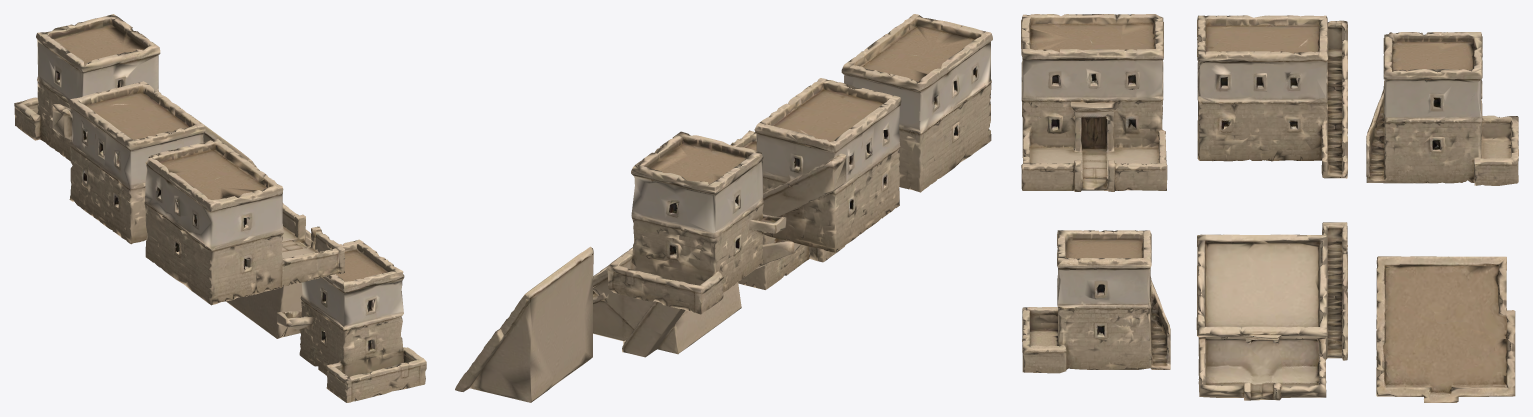
Rendered from house_wealthy_game.glb.
The picture shows the model from 3 angles, left to right: view 1: azimuth 30°, elevation 25°; view 2: azimuth 150°, elevation 25°; view 3: azimuth 270°, elevation 25°; orthographic projection. The views are drawn at different scales.
Parts seen in each view (by area): view 1: tripo_node_e14adc17-71f7-4f82-a629-1926d1048478; view 2: tripo_node_e14adc17-71f7-4f82-a629-1926d1048478; view 3: tripo_node_e14adc17-71f7-4f82-a629-1926d1048478.
Part boxes in pixels (x1,y1,x2,y2): tripo_node_e14adc17-71f7-4f82-a629-1926d1048478: [14, 14, 426, 402]; tripo_node_e14adc17-71f7-4f82-a629-1926d1048478: [455, 14, 992, 402]; tripo_node_e14adc17-71f7-4f82-a629-1926d1048478: [1021, 14, 1518, 402].
Size of the model in its own units: 0.6747 by 0.5466 by 0.9793.
Materials: 1 (1 with a texture image).
